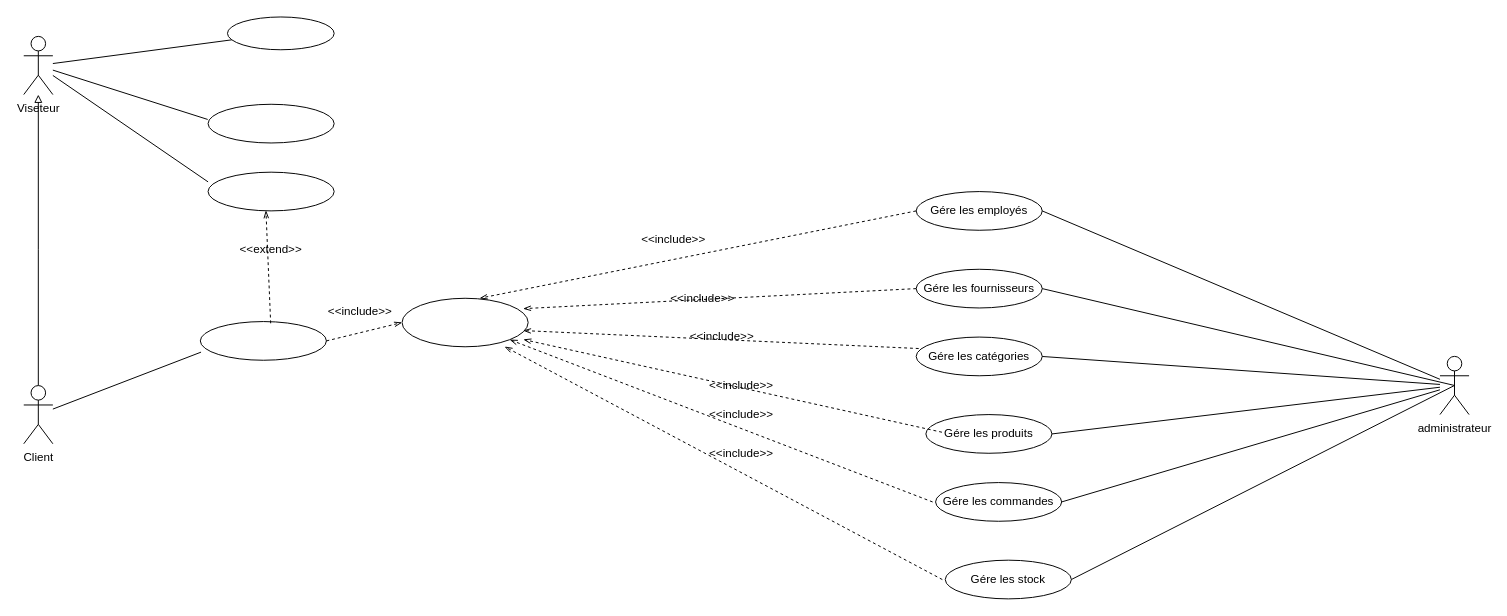
Image size: 1507x616. Some labels were removed from this diagram. Here are the shapes that lost their labels. From the top down, the centre of each, then its label:
At point (280, 33): "S'inscrire".
At point (270, 123): "Consulter les catalogues".
At point (270, 191): "Remplissage pannier".
At point (262, 340): "Passer commande".
At point (464, 322): "Authentication".
